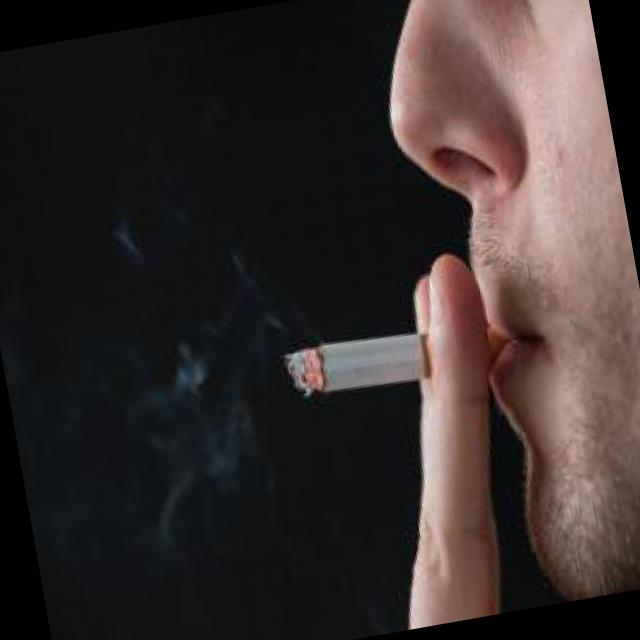smoke: (0, 168, 332, 606)
